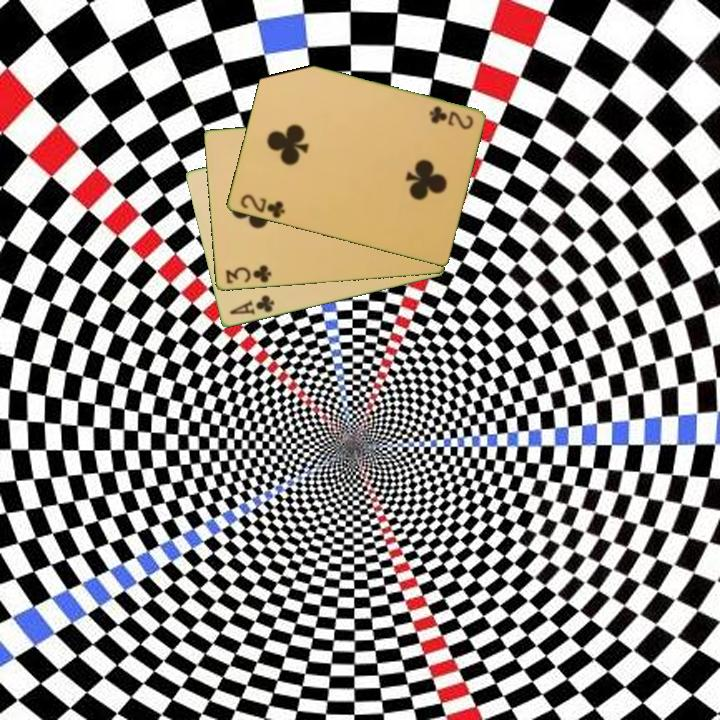2c: (237, 191, 288, 222), (425, 103, 476, 133)
3c: (222, 262, 274, 287)
Ac: (226, 292, 277, 318)
